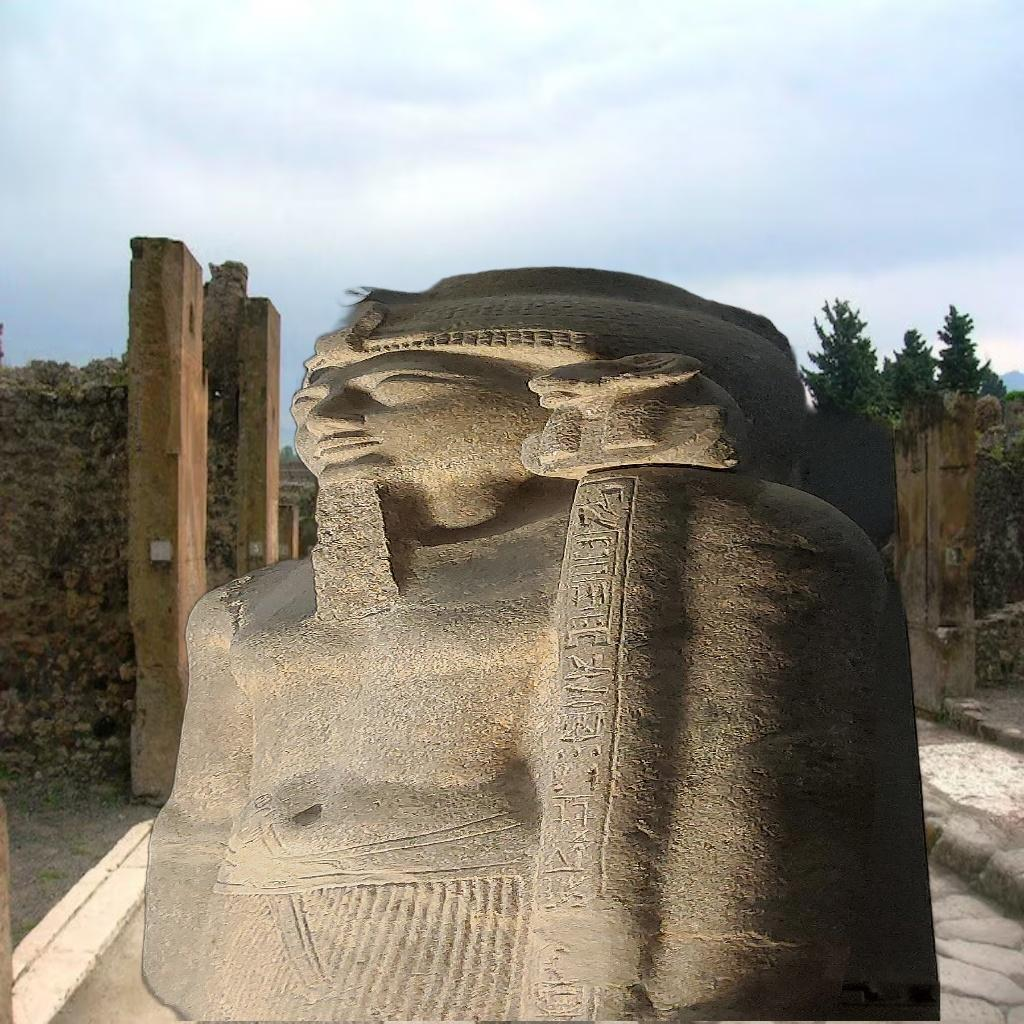Statue of Ramesses III as standard Bearer: (136, 264, 940, 1022)
